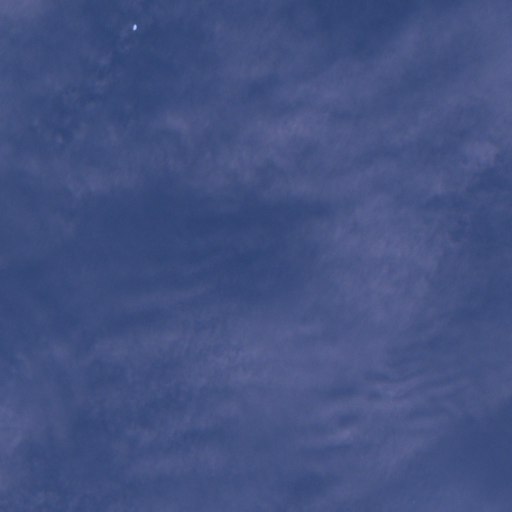Iceberg: (133, 24, 136, 30)
